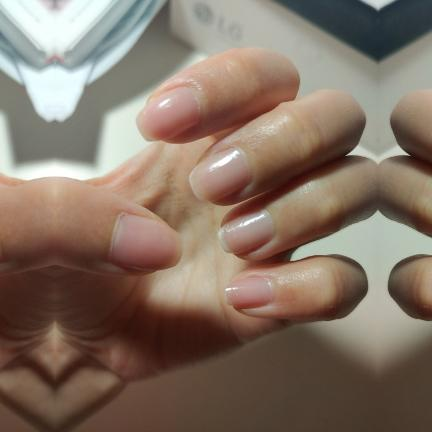Nail: (108, 213, 181, 271), (188, 146, 251, 203), (135, 86, 198, 142), (218, 208, 276, 253), (224, 277, 273, 309)
